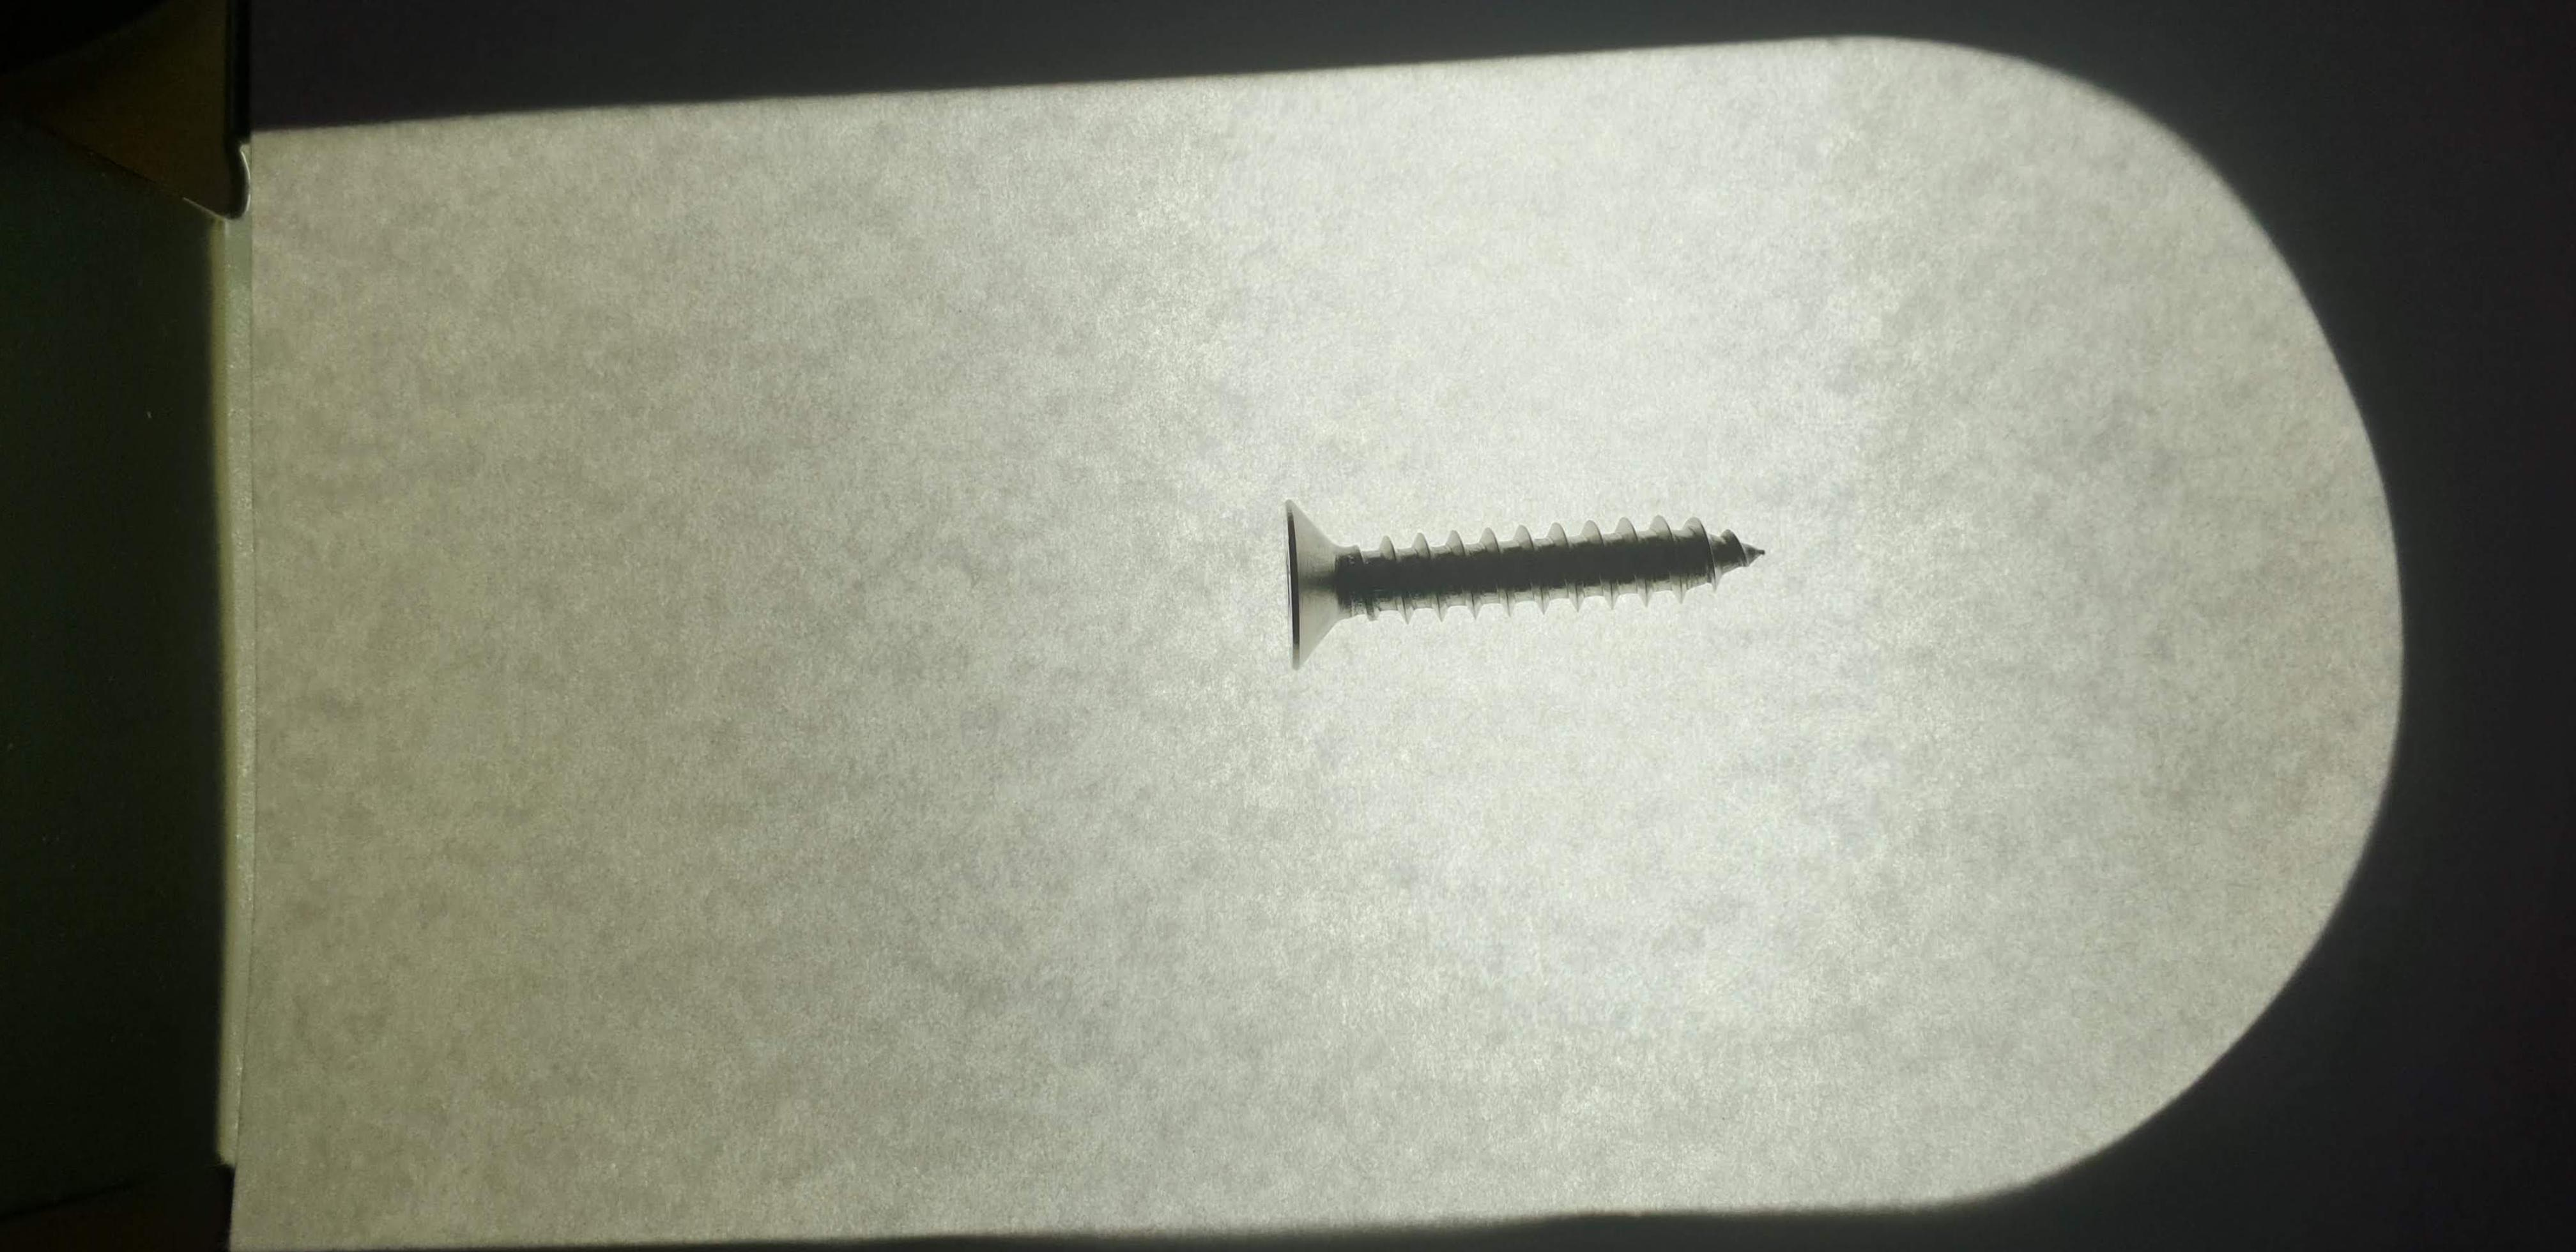S004: (1253, 465, 1781, 698)
